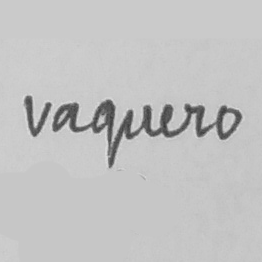a: (51, 100, 79, 135)
e: (157, 101, 177, 140)
o: (213, 102, 245, 142)
q: (89, 97, 118, 171)
r: (180, 101, 209, 140)
u: (121, 102, 154, 141)
v: (22, 93, 50, 140)
